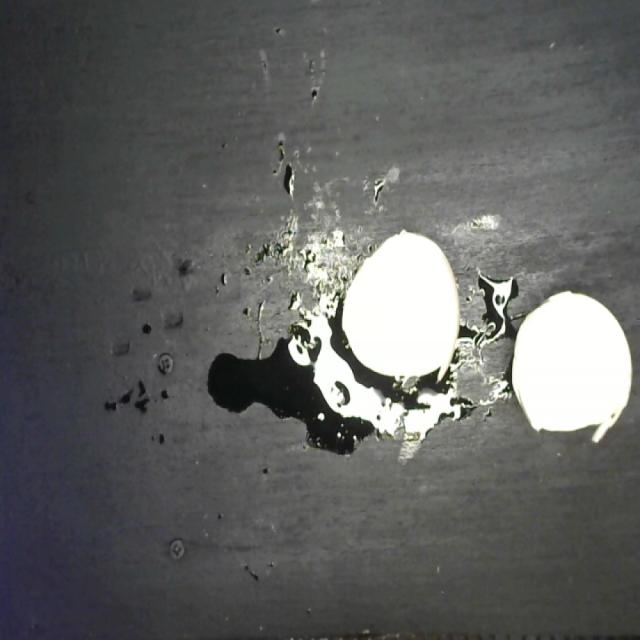biodegradable: (338, 224, 632, 447)
